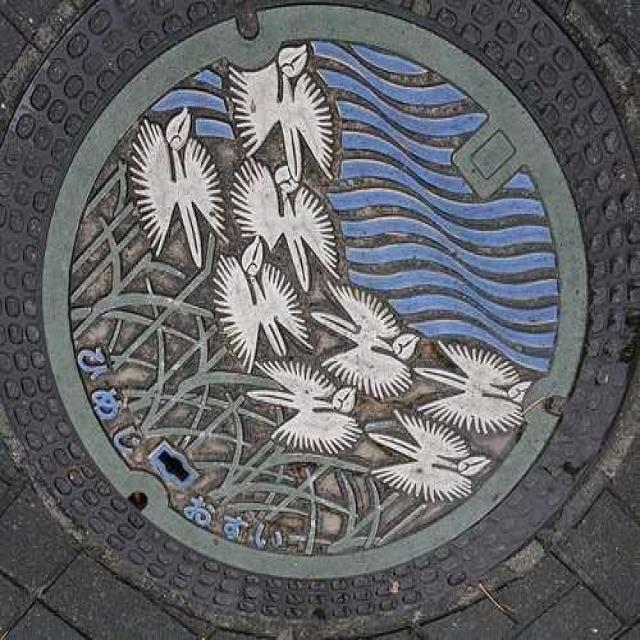manhole: (0, 0, 640, 635)
